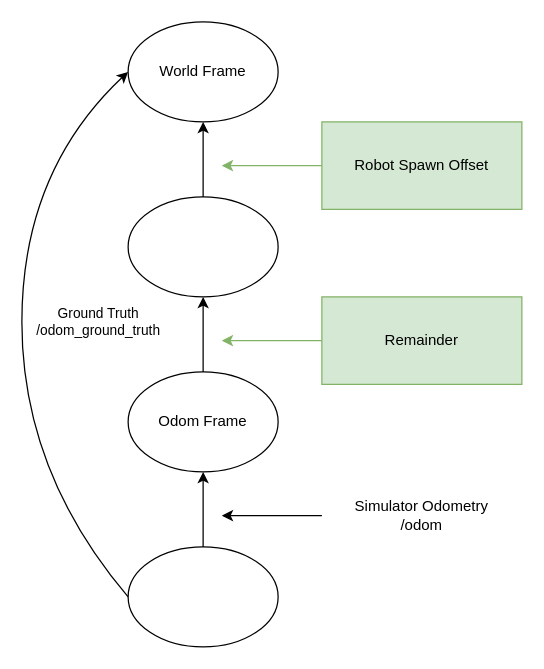
Image size: 544x669. Some labels were removed from this diagram. Each missing label, with the centre of its shape:
"Base Link Frame" goes at point (202, 596).
"Map Frame" goes at point (202, 246).
